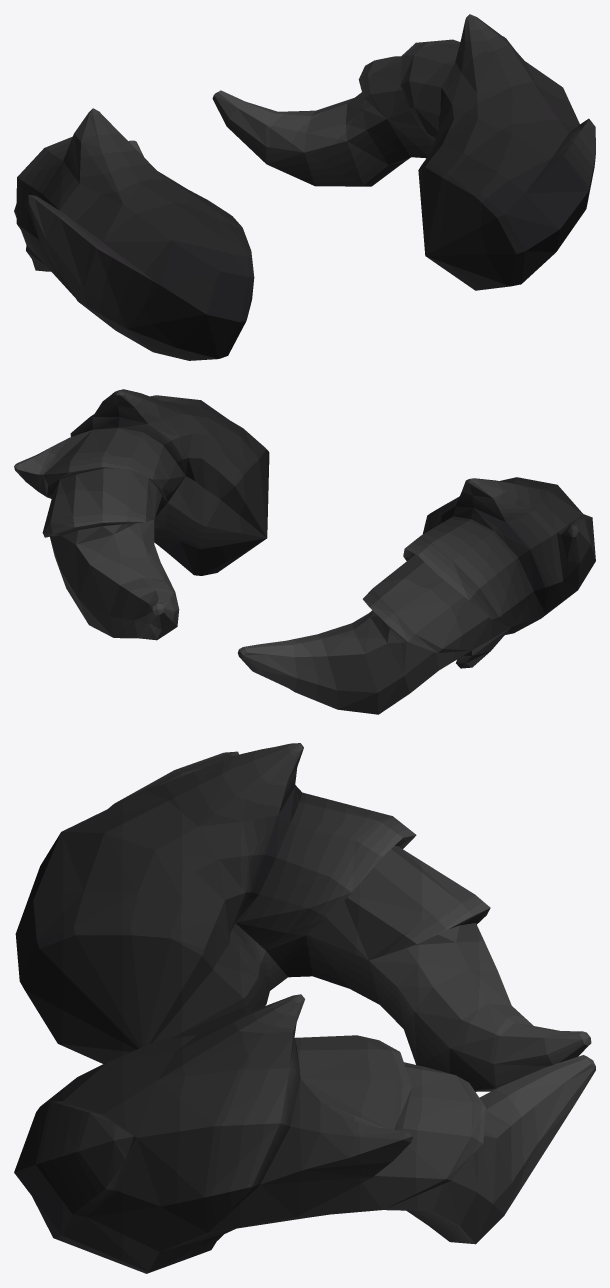
Rendered from CharSkyKid_Horn_AP27KrillHorns.glb.
3 renders of one model, top to bottom at view 1: azimuth 30°, elevation 25°; view 2: azimuth 150°, elevation 25°; view 3: azimuth 270°, elevation 25°, orthographic. The views are drawn at different scales.
Visible parts, largest first — view 1: CharSkyKid_Horn_AP27KrillHorns; view 2: CharSkyKid_Horn_AP27KrillHorns; view 3: CharSkyKid_Horn_AP27KrillHorns.
Part boxes in pixels (<box>): CharSkyKid_Horn_AP27KrillHorns: <box>14,14,595,360</box>; CharSkyKid_Horn_AP27KrillHorns: <box>14,389,595,714</box>; CharSkyKid_Horn_AP27KrillHorns: <box>14,743,595,1273</box>.
Bounding box in the file's own units: 4.19 × 1.66 × 2.83.
1 material, 1 textured.
